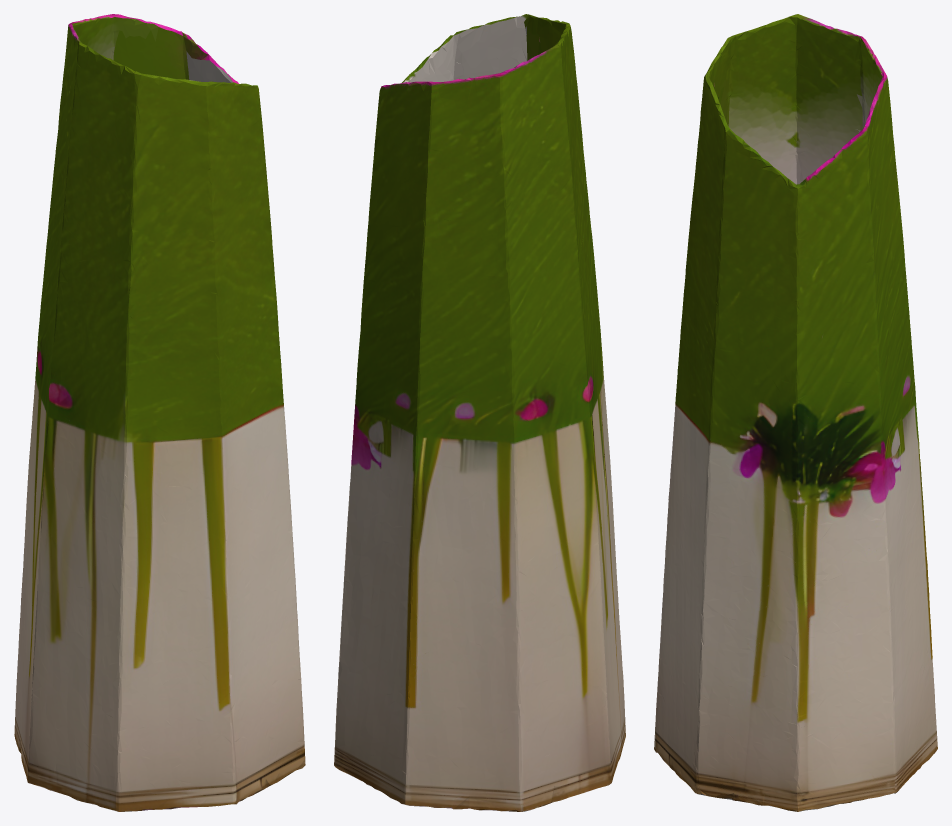
The model's file is hunyuan3d_textured.obj.
The picture shows the model from 3 angles, left to right: view 1: azimuth 30°, elevation 25°; view 2: azimuth 150°, elevation 25°; view 3: azimuth 270°, elevation 25°; orthographic projection. The views are drawn at different scales.
Parts seen in each view (by area): view 1: hunyuan3d_textured; view 2: hunyuan3d_textured; view 3: hunyuan3d_textured.
Boxes of the visible parts, x1=… form: hunyuan3d_textured: x1=14, y1=14, x2=305, y2=811; hunyuan3d_textured: x1=334, y1=14, x2=625, y2=811; hunyuan3d_textured: x1=654, y1=14, x2=937, y2=811.
Size of the model in its own units: 0.756 by 1.99 by 0.7332.
1 material, 1 textured.
